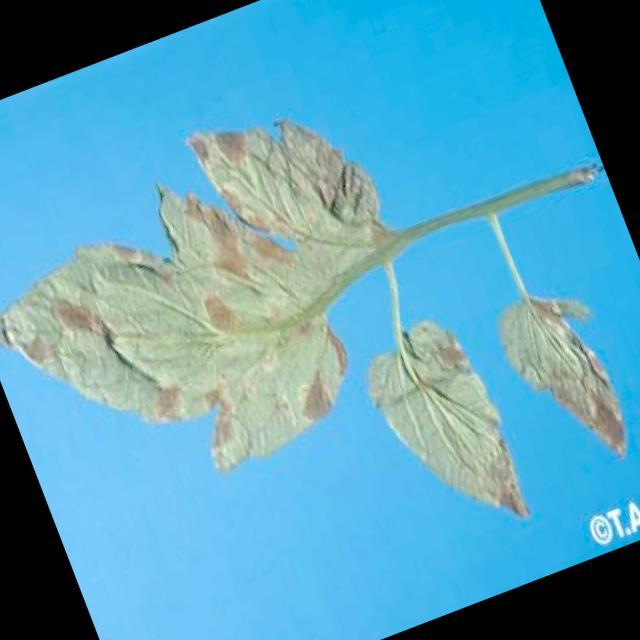Tomato mold leaf: (0, 78, 453, 534), (352, 306, 538, 558), (487, 272, 640, 479)
